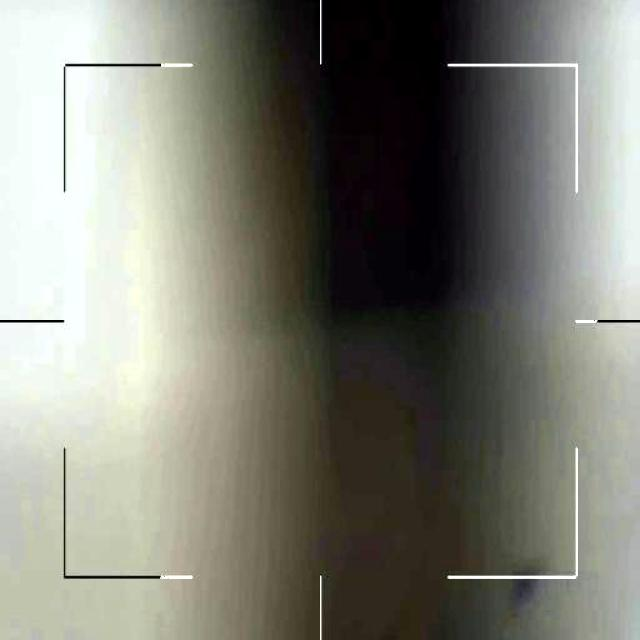bird: (501, 578, 554, 640)
